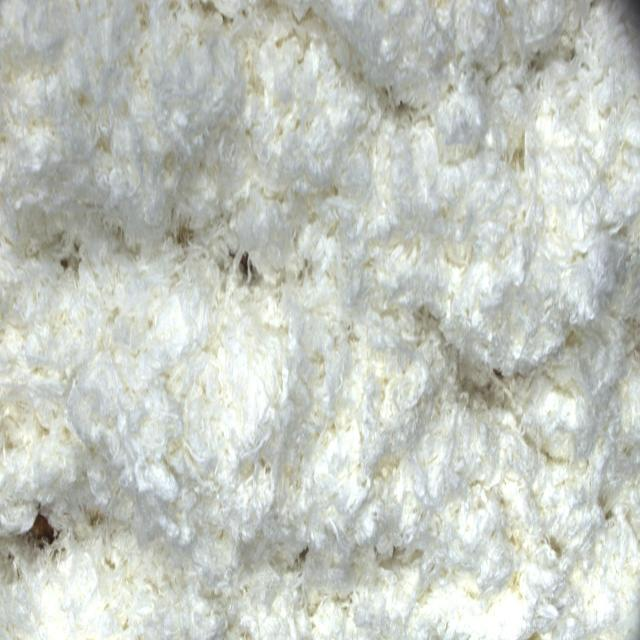dust: (15, 501, 60, 564), (236, 247, 271, 296), (60, 242, 82, 280)
